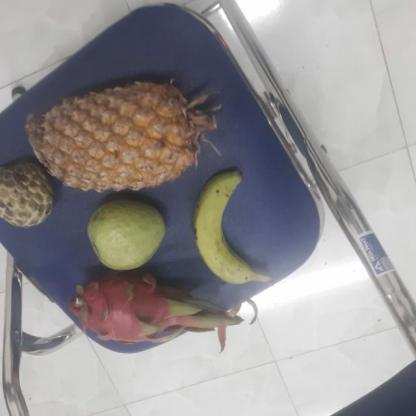annona: (0, 160, 60, 227)
banana: (192, 173, 264, 284)
guava: (83, 199, 167, 273)
pineapple: (33, 83, 206, 191)
pitaya: (70, 265, 205, 347)
